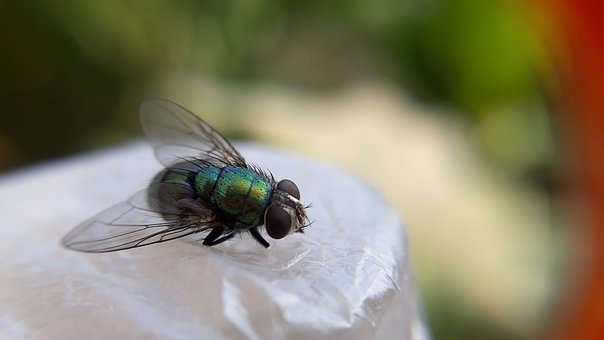fly: (58, 92, 311, 264)
